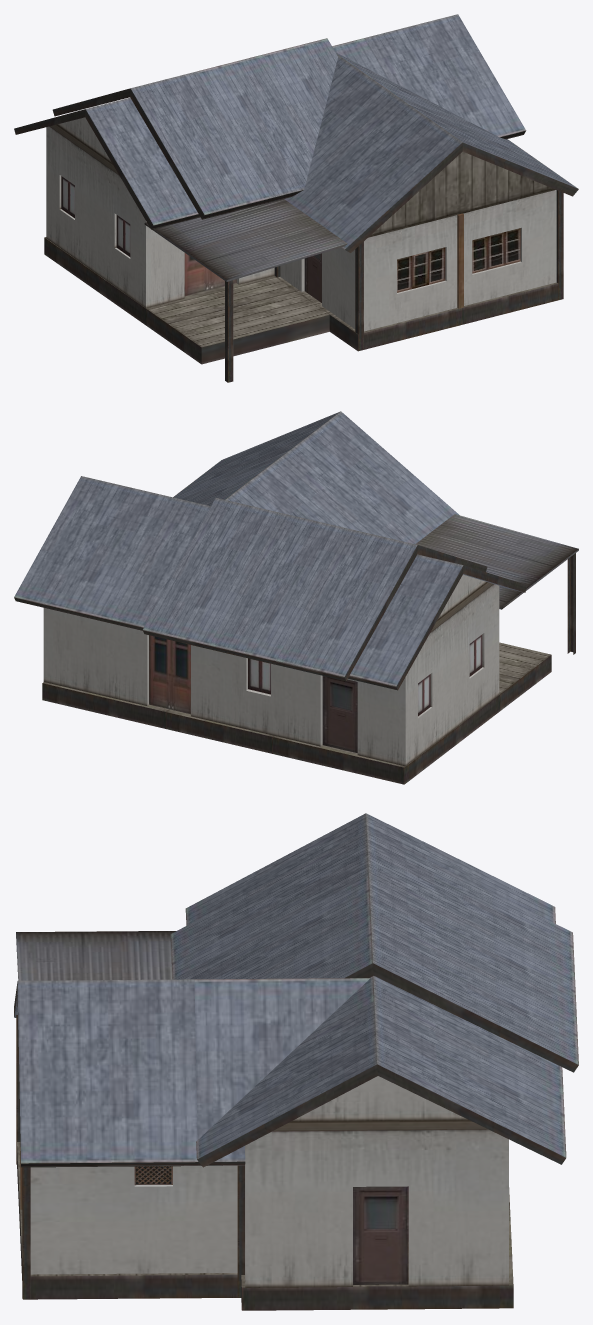
File: 15_bar_resto.fbx
The picture shows the model from 3 angles, top to bottom: view 1: azimuth 30°, elevation 25°; view 2: azimuth 150°, elevation 25°; view 3: azimuth 270°, elevation 25°; orthographic projection. The views are drawn at different scales.
Visible parts, largest first — view 1: House2_LOD0; view 2: House2_LOD0; view 3: House2_LOD0.
Boxes of the visible parts, x1,y1,x2,y2 form: House2_LOD0: [14, 14, 578, 382]; House2_LOD0: [14, 411, 578, 784]; House2_LOD0: [14, 813, 578, 1310].
Size of what is drawn, in the model's own units: 184 by 89.6 by 173.
1 material, 1 textured.
